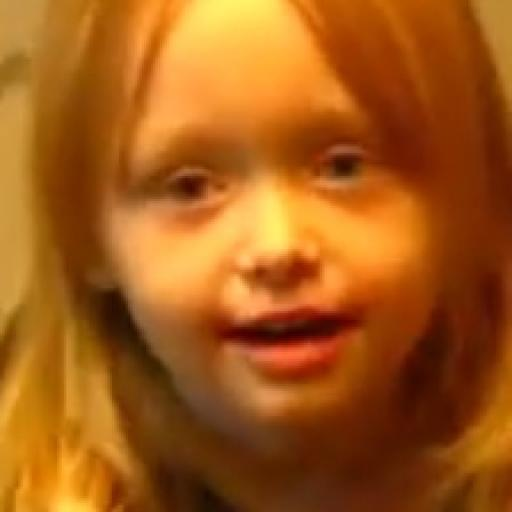Autism: (0, 0, 507, 512)
